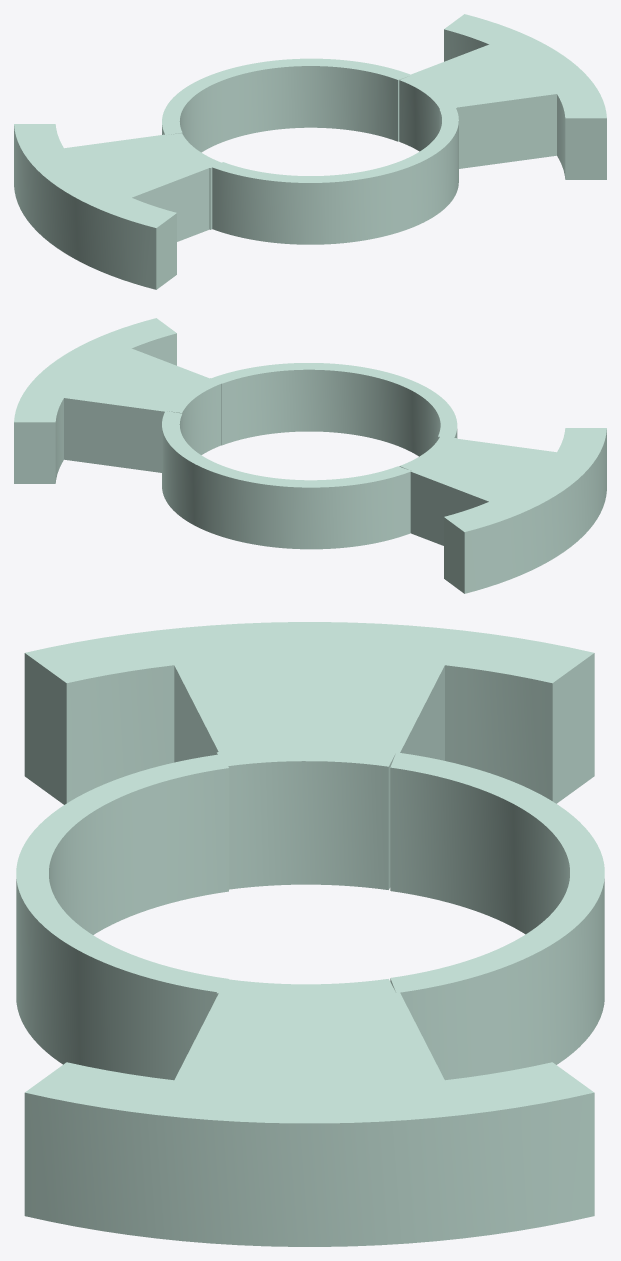
3 views of the same model, one above another, from view 1: azimuth 30°, elevation 25°; view 2: azimuth 150°, elevation 25°; view 3: azimuth 270°, elevation 25° (orthographic). The views are drawn at different scales.
Parts seen in each view (by area): view 1: Renderer Node; view 2: Renderer Node; view 3: Renderer Node.
Boxes of the visible parts, x1,y1,x2,y2 form: Renderer Node: (14,14,606,289); Renderer Node: (14,318,606,593); Renderer Node: (16,622,604,1246).
Bounding box in the file's own units: 1.5 × 0.1719 × 0.7425.
